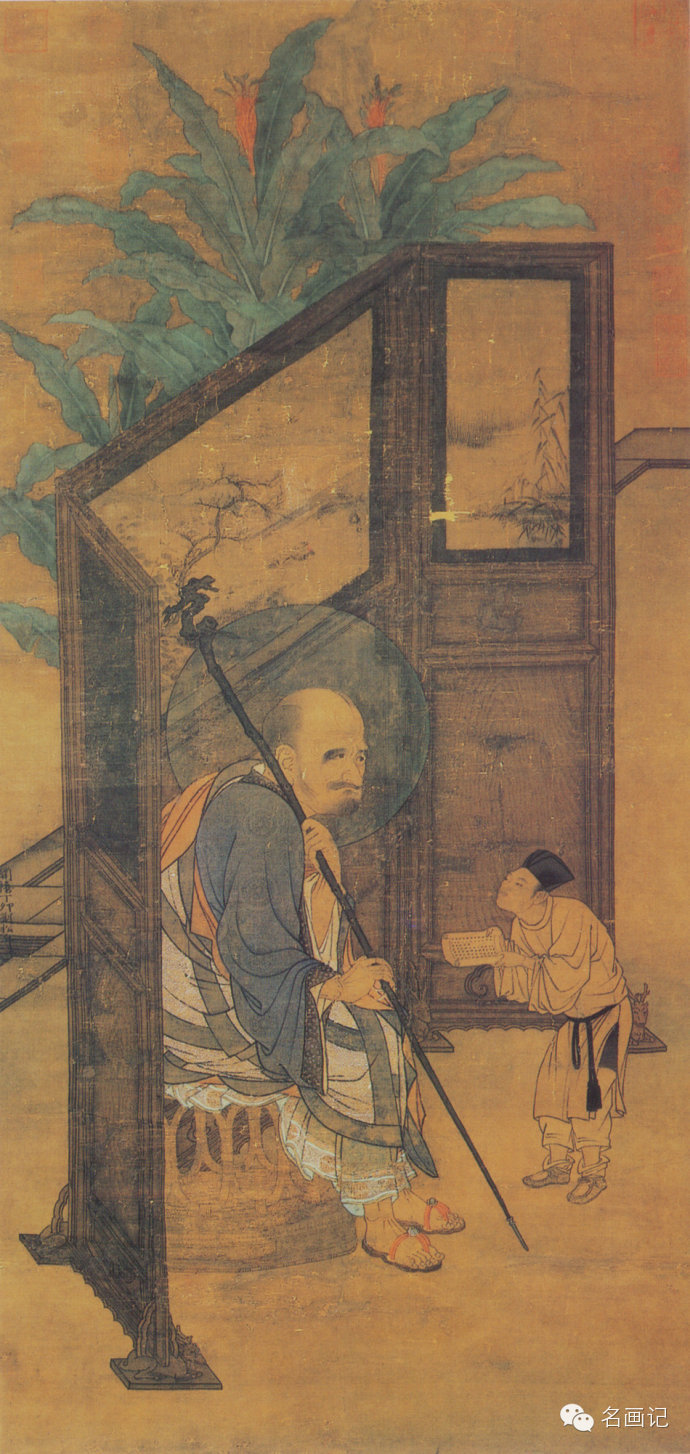man: (450, 830, 658, 1217)
monk: (168, 667, 485, 1274)
